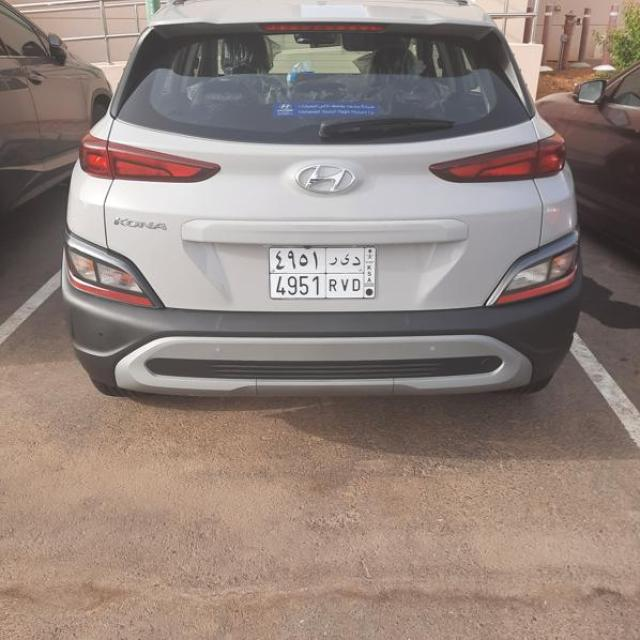license_plate: (268, 243, 378, 300)
